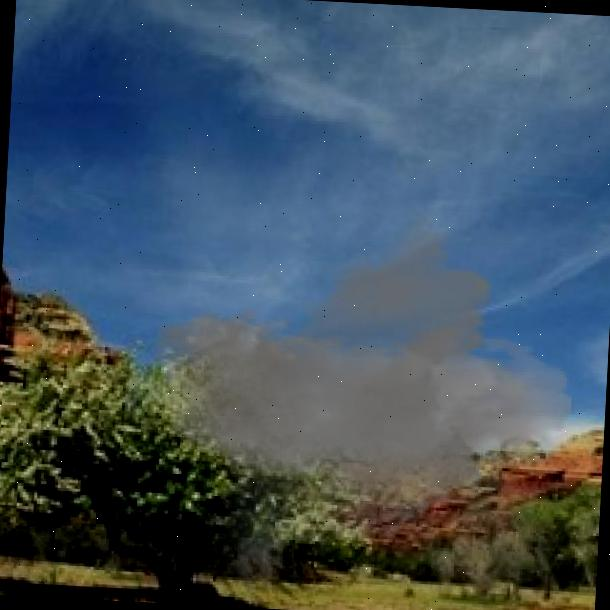smoke: (138, 203, 583, 610)
